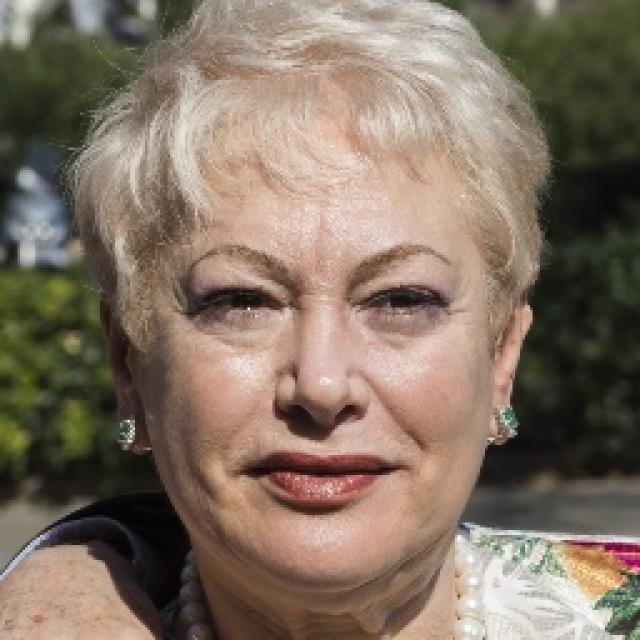earlobe: (96, 295, 152, 452), (482, 298, 534, 446)
